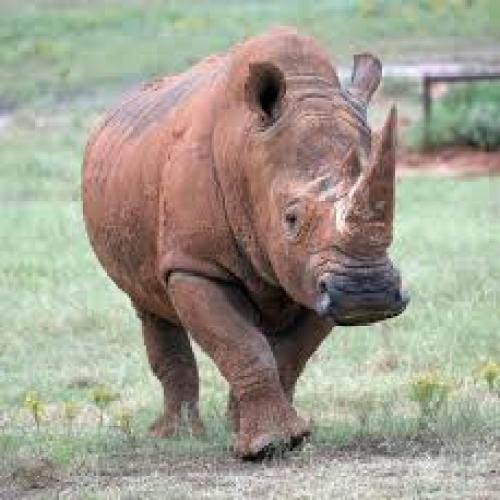rhino-endangered: (70, 21, 414, 464)
